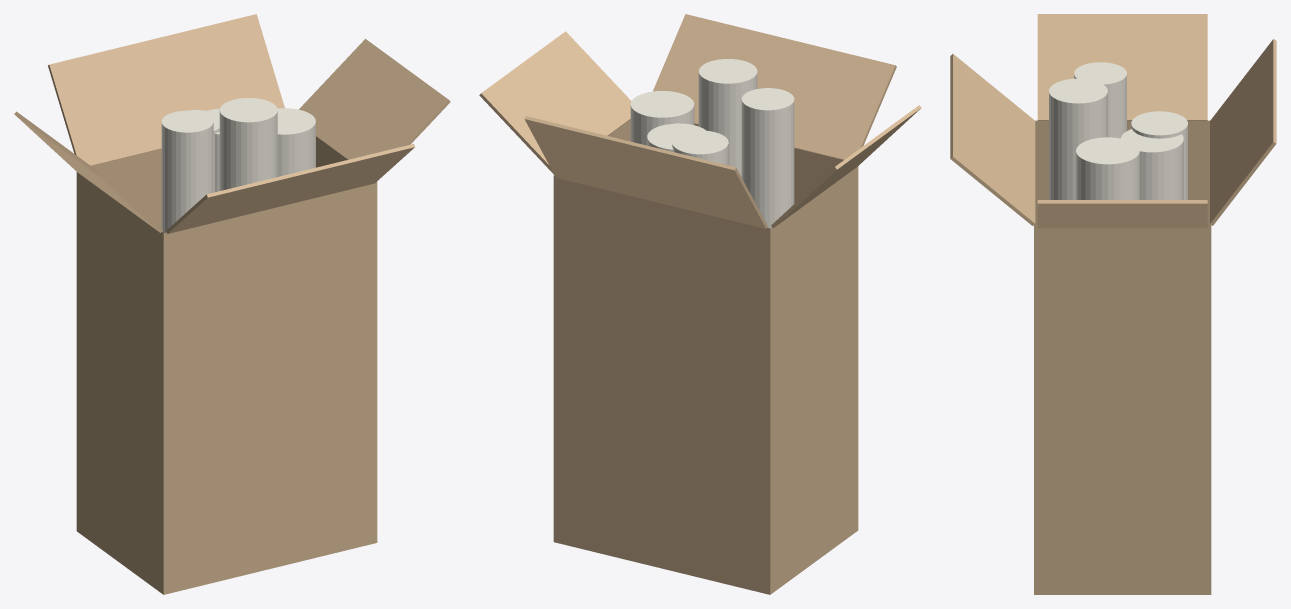
File: CardboardWithPaper.glb
3 views of the same model, side by side, from view 1: azimuth 30°, elevation 25°; view 2: azimuth 150°, elevation 25°; view 3: azimuth 270°, elevation 25° (orthographic).
Parts seen in each view (by area): view 1: CBox_Body, CBox_Flap_Back, CBox_Flap_Right, CBox_Flap_Front, CBox_PaperRoll_0, CBox_PaperRoll_4, CBox_PaperRoll_2, CBox_Flap_Left; view 2: CBox_Body, CBox_Flap_Front, CBox_Flap_Back, CBox_Flap_Right, CBox_PaperRoll_0, CBox_PaperRoll_4, CBox_PaperRoll_2, CBox_Flap_Left, CBox_PaperRoll_3, CBox_PaperRoll_1; view 3: CBox_Body, CBox_Flap_Left, CBox_Flap_Front, CBox_Flap_Back, CBox_PaperRoll_4, CBox_Flap_Right, CBox_PaperRoll_2, CBox_PaperRoll_1, CBox_PaperRoll_0, CBox_PaperRoll_3.
Part boxes in pixels (x1,y1,x2,y2): CBox_Body: (76,136,377,594); CBox_Flap_Back: (48,14,284,165); CBox_Flap_Right: (299,39,450,159); CBox_Flap_Front: (166,144,414,233); CBox_PaperRoll_0: (161,110,213,232); CBox_PaperRoll_4: (219,98,277,190); CBox_PaperRoll_2: (277,108,315,176); CBox_Flap_Left: (14,111,162,232); CBox_Body: (553,119,858,594); CBox_Flap_Front: (653,14,896,159); CBox_Flap_Back: (524,116,767,228); CBox_Flap_Right: (479,31,631,174); CBox_PaperRoll_0: (741,88,794,228); CBox_PaperRoll_4: (698,59,757,176); CBox_PaperRoll_2: (630,91,694,145); CBox_Flap_Left: (771,105,921,228); CBox_PaperRoll_3: (672,130,728,165); CBox_PaperRoll_1: (647,123,705,151); CBox_Body: (1034,120,1211,594); CBox_Flap_Left: (1037,14,1207,120); CBox_Flap_Front: (950,54,1035,225); CBox_Flap_Back: (1210,39,1276,225); CBox_PaperRoll_4: (1049,78,1107,199); CBox_Flap_Right: (1037,200,1207,228); CBox_PaperRoll_2: (1076,137,1139,199); CBox_PaperRoll_1: (1121,129,1183,199); CBox_PaperRoll_0: (1074,62,1126,138); CBox_PaperRoll_3: (1131,111,1187,199).
Bounding box in the file's own units: 0.562 × 0.6743 × 0.4412.
